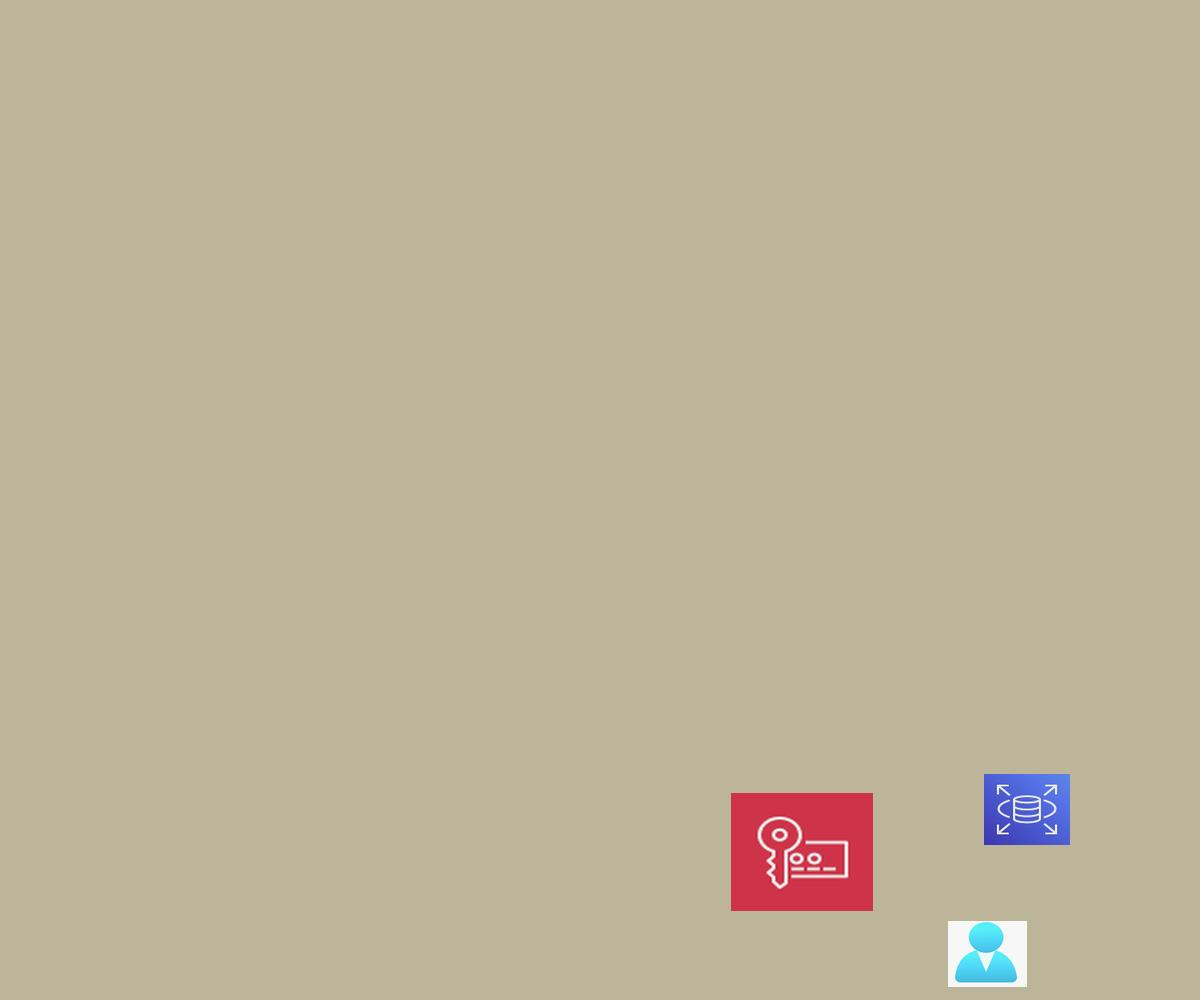AWS-Key-Management-Service: (731, 793, 873, 911)
AWS-RDS: (984, 774, 1070, 845)
Azure_users: (948, 921, 1027, 987)
